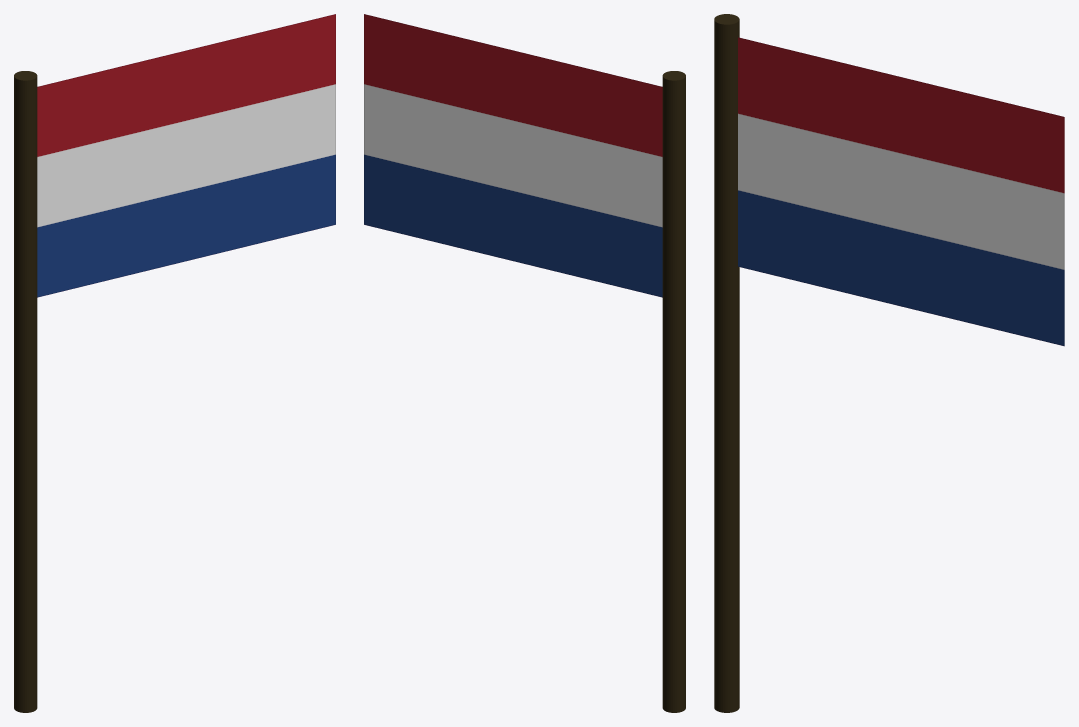
Rendered from Netherlands.glb.
3 renders of one model, left to right at view 1: azimuth 30°, elevation 25°; view 2: azimuth 150°, elevation 25°; view 3: azimuth 330°, elevation 25°, orthographic. The views are drawn at different scales.
Visible parts, largest first — view 1: Plane, Cylinder; view 2: Plane, Cylinder; view 3: Plane, Cylinder.
Boxes of the visible parts, left/top/right/bottom form: Plane: left=37, top=14, right=335, bottom=297; Cylinder: left=14, top=71, right=37, bottom=712; Plane: left=364, top=14, right=662, bottom=297; Cylinder: left=662, top=71, right=685, bottom=712; Plane: left=738, top=37, right=1064, bottom=346; Cylinder: left=714, top=14, right=739, bottom=712.
Size of the model in its own units: 3.18 by 6 by 0.2.
Materials: 2 (1 with a texture image).
